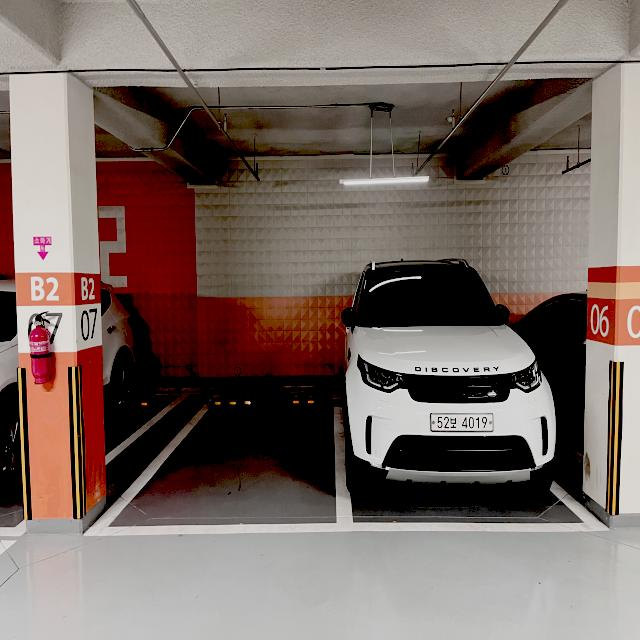empty: (160, 383, 341, 533)
occupied: (342, 248, 558, 534)
